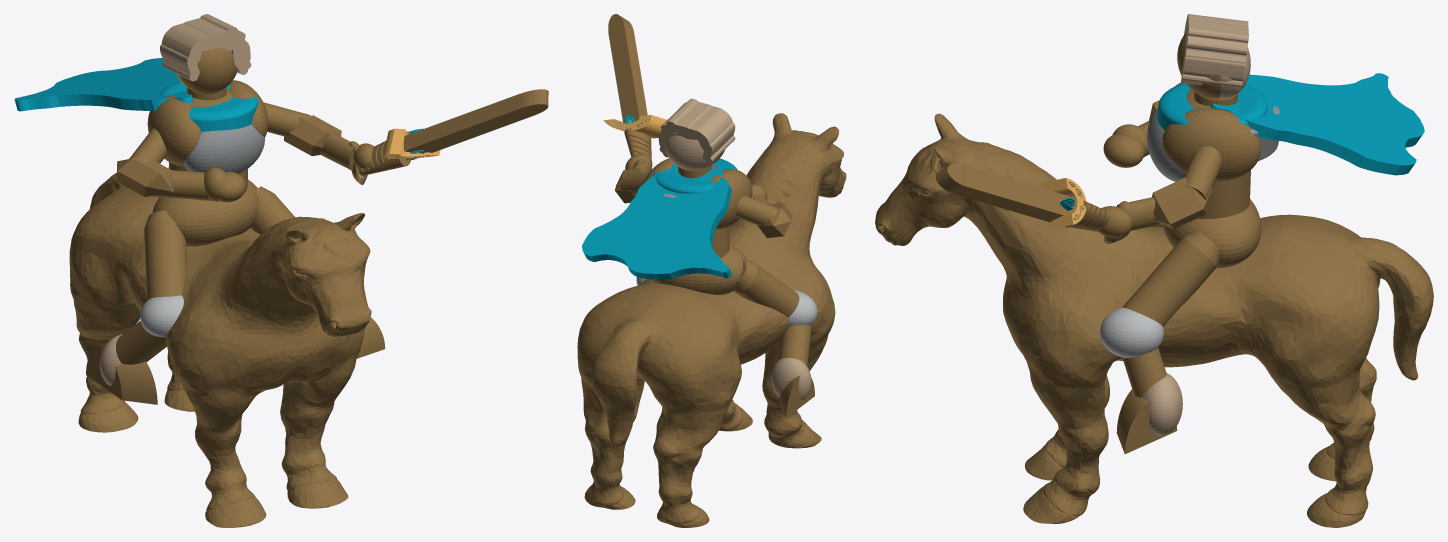
Rendered from player_general_2.glb.
The picture shows the model from 3 angles, left to right: view 1: azimuth 30°, elevation 25°; view 2: azimuth 150°, elevation 25°; view 3: azimuth 270°, elevation 25°; orthographic projection. The views are drawn at different scales.
Parts seen in each view (by area): view 1: Mesh_Mesh_head_geo.001_lambert2SG.001; view 2: Mesh_Mesh_head_geo.001_lambert2SG.001; view 3: Mesh_Mesh_head_geo.001_lambert2SG.001.
Part boxes in pixels (x1=…): Mesh_Mesh_head_geo.001_lambert2SG.001: x1=14, y1=14, x2=548, y2=527; Mesh_Mesh_head_geo.001_lambert2SG.001: x1=577, y1=14, x2=846, y2=527; Mesh_Mesh_head_geo.001_lambert2SG.001: x1=875, y1=14, x2=1433, y2=527.
Size of the model in its own units: 90.49 by 109 by 117.
